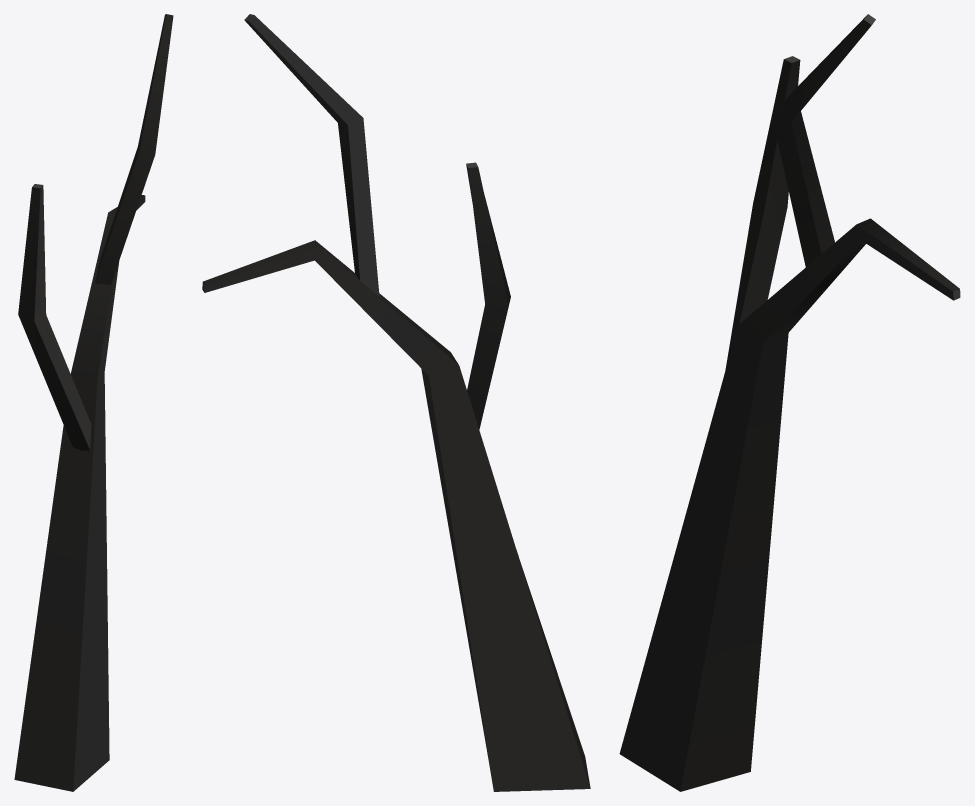
The model's file is SF_Env_Tree_Burnt_02.fbx.
3 renders of one model, left to right at view 1: azimuth 30°, elevation 25°; view 2: azimuth 150°, elevation 25°; view 3: azimuth 270°, elevation 25°, orthographic. The views are drawn at different scales.
Visible parts, largest first — view 1: SF_Env_Tree_Burnt_02; view 2: SF_Env_Tree_Burnt_02; view 3: SF_Env_Tree_Burnt_02.
Boxes of the visible parts, x1=… form: SF_Env_Tree_Burnt_02: x1=14, y1=14, x2=173, y2=791; SF_Env_Tree_Burnt_02: x1=202, y1=14, x2=590, y2=791; SF_Env_Tree_Burnt_02: x1=619, y1=14, x2=960, y2=791.
Bounding box in the file's own units: 2.67 × 7.27 × 2.61.
